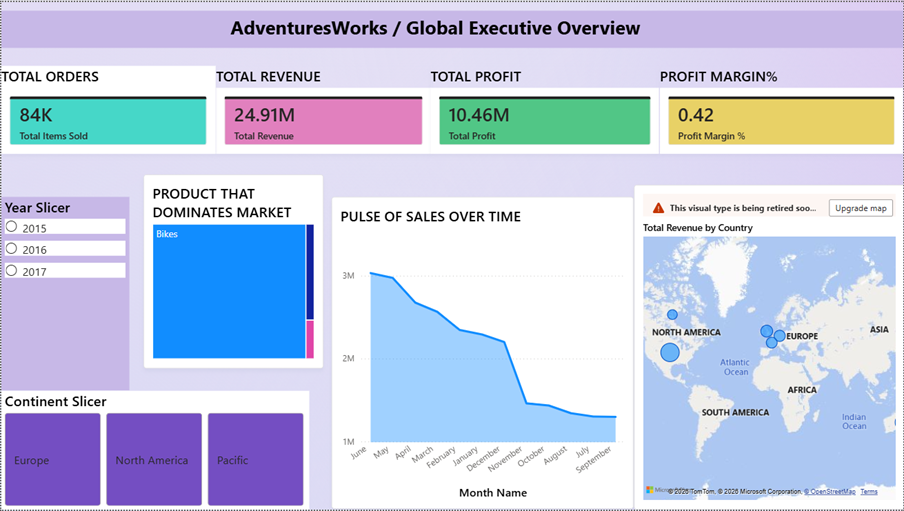

The dashboard page shown, as its layout file describes it:
{"tool":"powerbi","page":{"name":"Executive Summary","canvas":[1280,720],"ordinal":0},"visuals":[{"type":"cardVisual","title":"TOTAL REVENUE","fields":{"Data":["Key_Measures.Total Revenue"]},"box":[303.9,90.8,305.2,125],"z":0},{"type":"cardVisual","title":"TOTAL PROFIT","fields":{"Data":["Key_Measures.Total Profit"]},"box":[609.1,90.8,324.9,125],"z":1000},{"type":"cardVisual","title":"PROFIT MARGIN%","fields":{"Data":["Key_Measures.Profit Margin %"]},"box":[934,90.8,346,125],"z":2000},{"type":"cardVisual","title":"TOTAL ORDERS","fields":{"Data":["Key_Measures.Total Items Sold"]},"box":[0,90.8,303.9,125],"z":3000},{"type":"areaChart","title":"PULSE OF SALES OVER TIME","fields":{"Y":["Key_Measures.Total Revenue"],"Category":["Dim_Calendar.Month Name"]},"box":[468.3,276.3,428.9,442],"z":4000},{"type":"treemap","title":"PRODUCT THAT DOMINATES MARKET","fields":{"Group":["Dim_Products.CategoryName"],"Values":["Key_Measures.Total Revenue"]},"box":[201.3,244.7,255.2,274.9],"z":5000},{"type":"listSlicer","title":"Year Slicer","fields":{"Values":["Dim_Calendar.Year"]},"box":[0,276.5,181.5,274.4],"z":6000},{"type":"advancedSlicerVisual","title":"Continent Slicer","fields":{"Values":["Dim_Territories.Continent"]},"box":[0,550.9,436.9,168.9],"z":7000},{"type":"map","fields":{"Category":["Dim_Territories.Country"],"Size":["Key_Measures.Total Revenue"]},"box":[897.2,259.2,384.1,460.4],"z":8000},{"type":"textbox","box":[0,11.8,1280,52.6],"z":9000}]}

Visuals, with their boxes in screenshot pixels (x1, y1, x2, y2), scaled from the page's 1280x720 canvas onto the 904x511 screenshot:
"TOTAL REVENUE" cardVisual: bbox(215, 64, 430, 153)
"TOTAL PROFIT" cardVisual: bbox(430, 64, 660, 153)
"PROFIT MARGIN%" cardVisual: bbox(660, 64, 903, 153)
"TOTAL ORDERS" cardVisual: bbox(0, 64, 215, 153)
"PULSE OF SALES OVER TIME" areaChart: bbox(331, 196, 634, 510)
"PRODUCT THAT DOMINATES MARKET" treemap: bbox(142, 174, 322, 369)
"Year Slicer" listSlicer: bbox(0, 196, 128, 391)
"Continent Slicer" advancedSlicerVisual: bbox(0, 391, 309, 510)
map - Dim_Territories.Country x Key_Measures.Total Revenue: bbox(634, 184, 903, 510)
textbox: bbox(0, 8, 903, 46)
